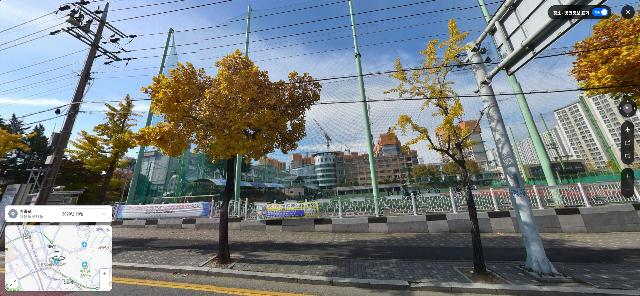ginkgo: (134, 48, 321, 263), (382, 19, 489, 276), (1, 112, 106, 206), (64, 96, 143, 205), (566, 1, 640, 113)
other: (413, 160, 456, 185), (604, 162, 621, 175)
